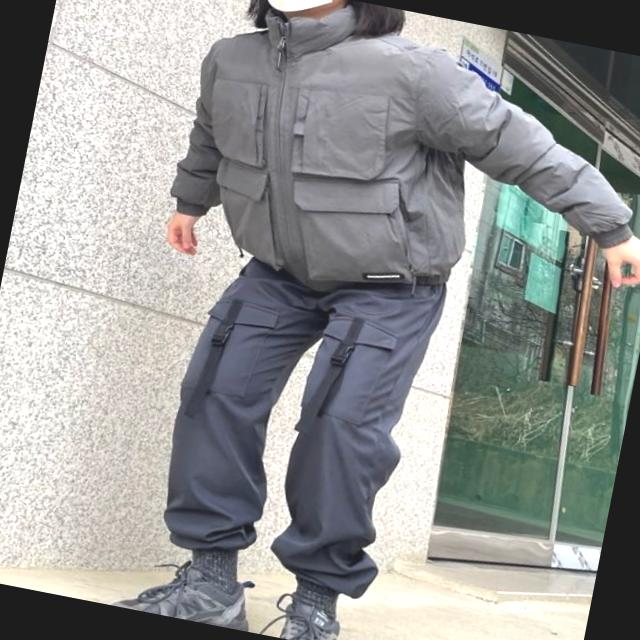cottonpants: (142, 223, 453, 607)
padding: (157, 0, 640, 340)
